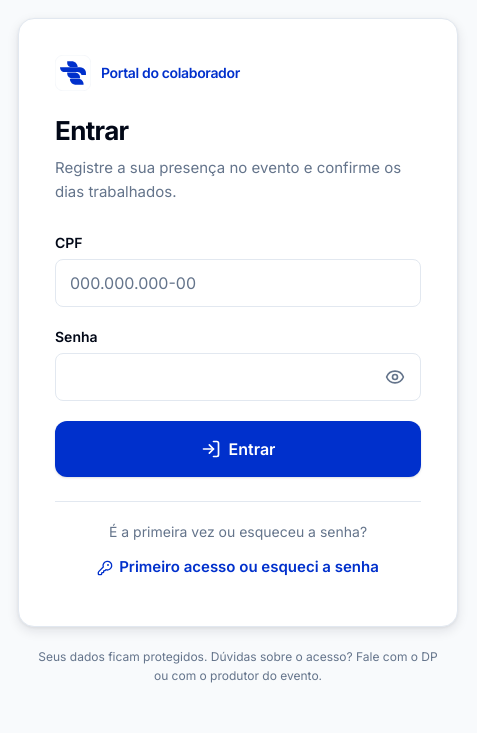
Test: Entrar › mascara o CPF, valida antes de enviar e mostra a mensagem do servidor
Step 1. Click the button "Entrar" → (238, 449), box [55, 421, 421, 477]
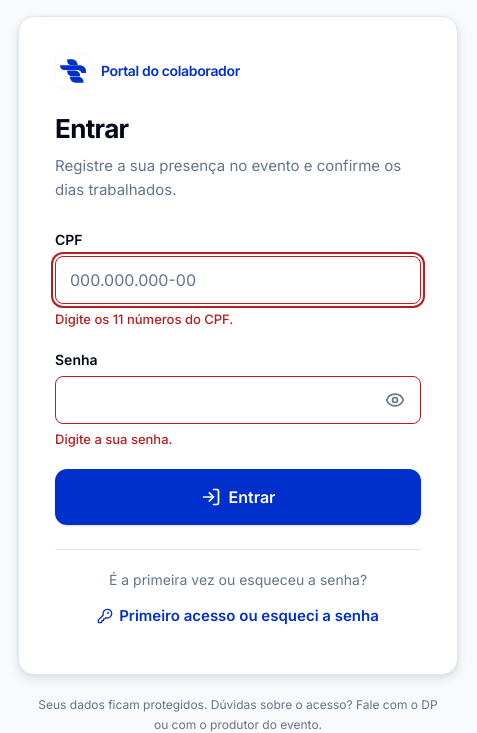
Expected: the text "Digite os 11 números do CPF." is shown, [55, 311, 233, 327]
Step 2. Type "12345678901" into the field labelled "CPF" → (238, 280), box [55, 256, 421, 304]
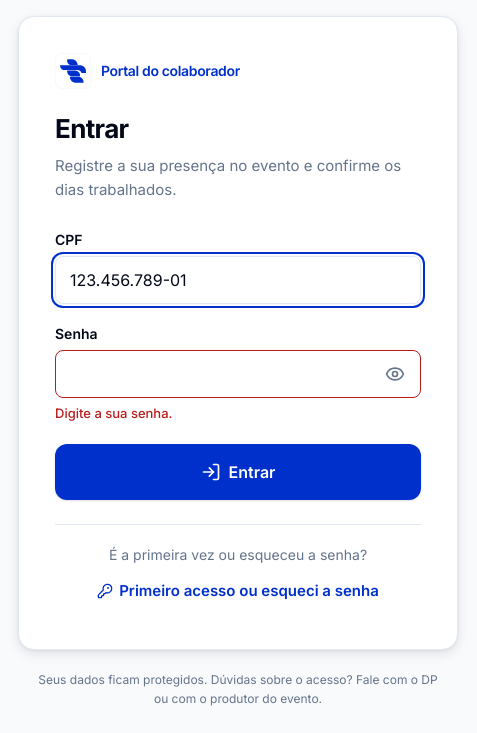
Expected: the field labelled "CPF" holds "123.456.789-01", [55, 256, 421, 304]
Step 3. Type "errada123" into the password field labelled "Senha" → (238, 374), box [55, 350, 421, 398]
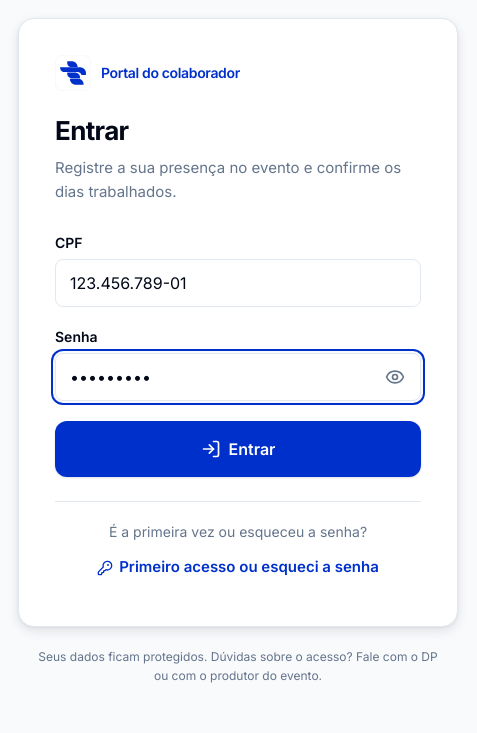
Step 4. Click the button "Entrar" → (238, 449), box [55, 421, 421, 477]
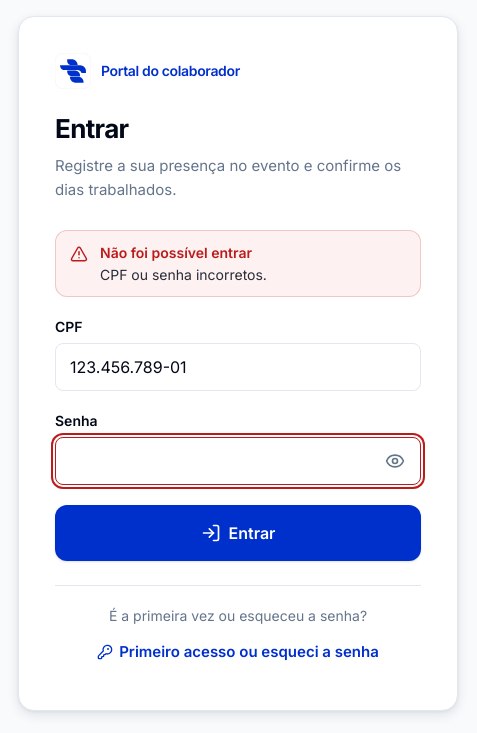
Expected: the message shows "CPF ou senha incorretos.", [100, 266, 267, 282]
